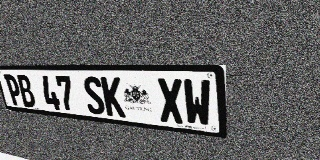4: (39, 75, 61, 110)
7: (54, 76, 77, 112)
B: (16, 75, 37, 108)
K: (100, 77, 126, 118)
P: (3, 74, 24, 106)
S: (82, 76, 106, 115)
W: (182, 79, 212, 127)
X: (156, 78, 184, 124)
